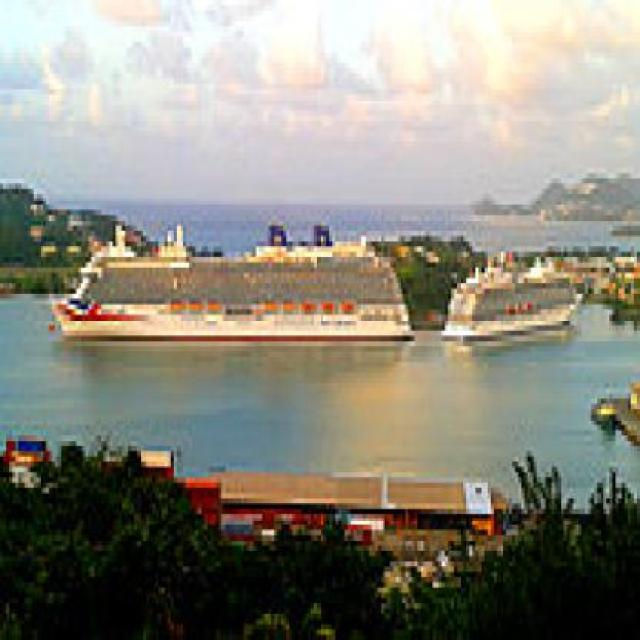cruise: (44, 206, 421, 358), (444, 247, 593, 358)
